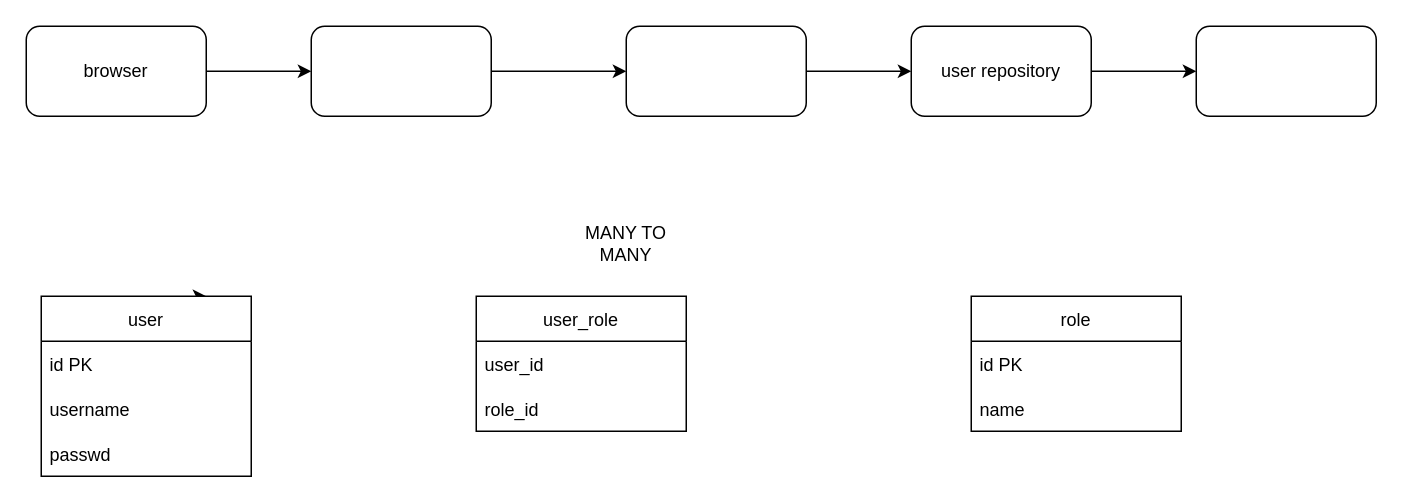
This 1403x503 diagram has some shape labels left out. The centre of each missing label's shape, as x and y in pixels:
db: the point at 1285,70
user registration controller: the point at 400,70
user service: the point at 715,70
